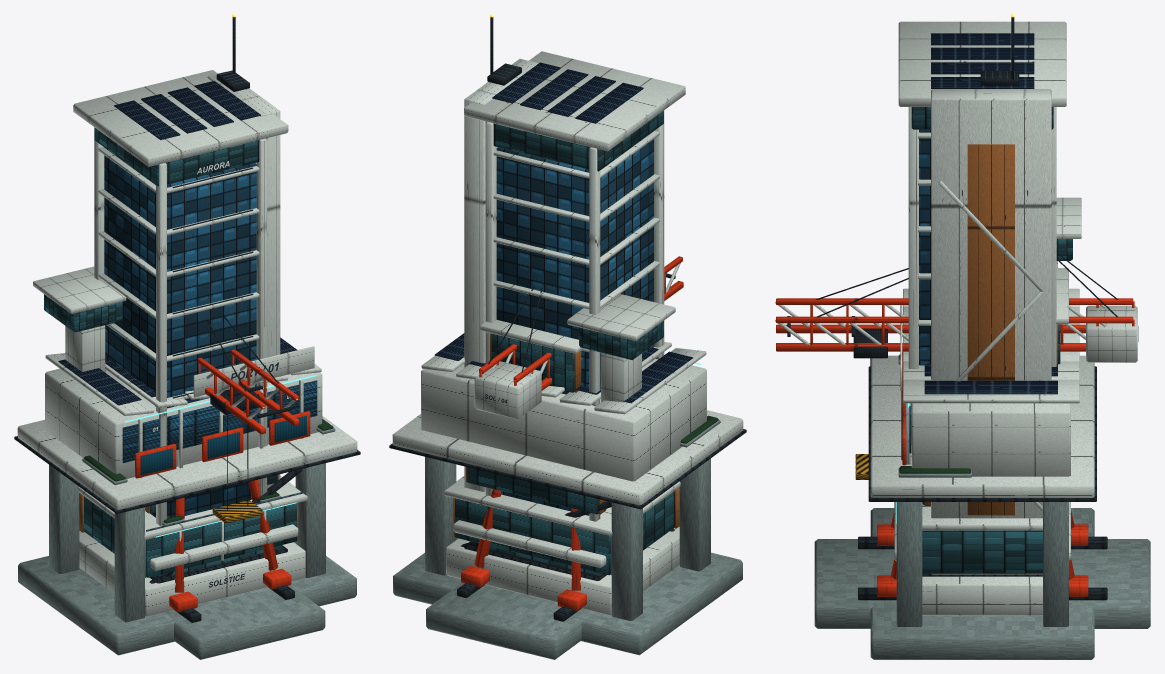
Rendered from solstice-port-kit.glb.
3 views of the same model, side by side, from view 1: azimuth 30°, elevation 25°; view 2: azimuth 150°, elevation 25°; view 3: azimuth 270°, elevation 25° (orthographic). The views are drawn at different scales.
Parts seen in each view (by area): view 1: aurora-tower / Solstice shared PBR atlas, port-terminal / Solstice shared PBR atlas, harbor-crane / Solstice shared PBR atlas, terrace-habitat / Solstice shared PBR atlas; view 2: port-terminal / Solstice shared PBR atlas, aurora-tower / Solstice shared PBR atlas, terrace-habitat / Solstice shared PBR atlas, harbor-crane / Solstice shared PBR atlas; view 3: aurora-tower / Solstice shared PBR atlas, port-terminal / Solstice shared PBR atlas, harbor-crane / Solstice shared PBR atlas, terrace-habitat / Solstice shared PBR atlas.
Part boxes in pixels (<box>): aurora-tower / Solstice shared PBR atlas: <box>73,17,299,584</box>; port-terminal / Solstice shared PBR atlas: <box>14,266,360,655</box>; harbor-crane / Solstice shared PBR atlas: <box>164,317,325,659</box>; terrace-habitat / Solstice shared PBR atlas: <box>76,369,313,619</box>; port-terminal / Solstice shared PBR atlas: <box>389,294,746,655</box>; aurora-tower / Solstice shared PBR atlas: <box>453,17,685,615</box>; terrace-habitat / Solstice shared PBR atlas: <box>444,320,683,615</box>; harbor-crane / Solstice shared PBR atlas: <box>426,256,683,659</box>; aurora-tower / Solstice shared PBR atlas: <box>894,17,1070,576</box>; port-terminal / Solstice shared PBR atlas: <box>868,197,1096,659</box>; harbor-crane / Solstice shared PBR atlas: <box>775,252,1150,628</box>; terrace-habitat / Solstice shared PBR atlas: <box>922,268,1068,615</box>.
Size of the model in its own units: 73 by 157 by 87.16.
Materials: 5 (1 with a texture image).
